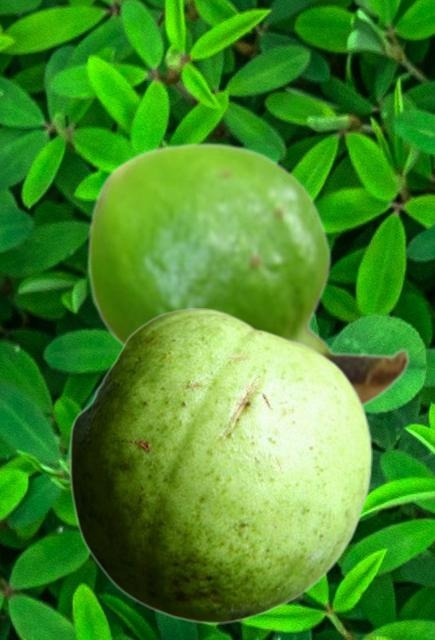guava: (69, 308, 371, 623), (86, 141, 410, 408)
